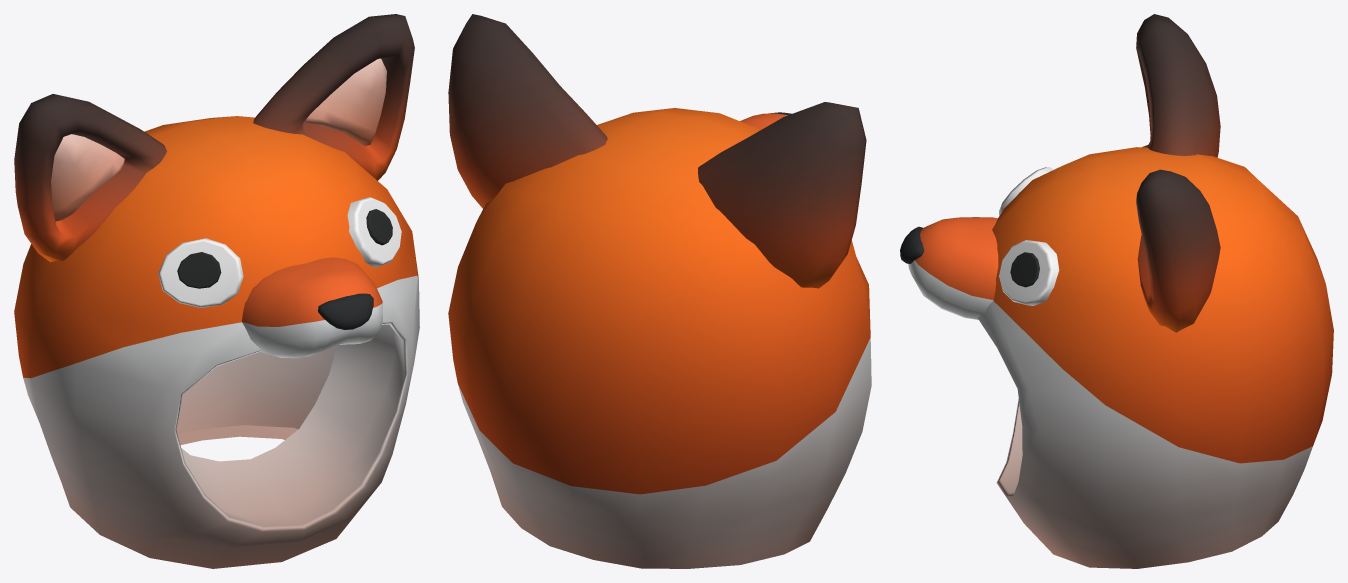
The model's file is Hat_47.glb.
3 renders of one model, left to right at view 1: azimuth 30°, elevation 25°; view 2: azimuth 150°, elevation 25°; view 3: azimuth 270°, elevation 25°, orthographic. The views are drawn at different scales.
Parts seen in each view (by area): view 1: Hat_47; view 2: Hat_47; view 3: Hat_47.
Boxes of the visible parts, x1=… form: Hat_47: x1=14, y1=14, x2=419, y2=568; Hat_47: x1=448, y1=14, x2=871, y2=568; Hat_47: x1=900, y1=14, x2=1333, y2=568.
Size of the model in its own units: 0.6456 by 0.7248 by 0.661.
Materials: 1 (1 with a texture image).
